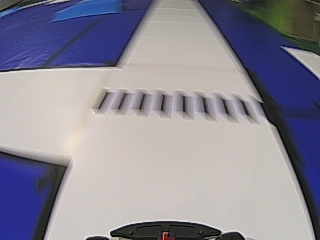CrossWalk: (95, 91, 251, 120)
